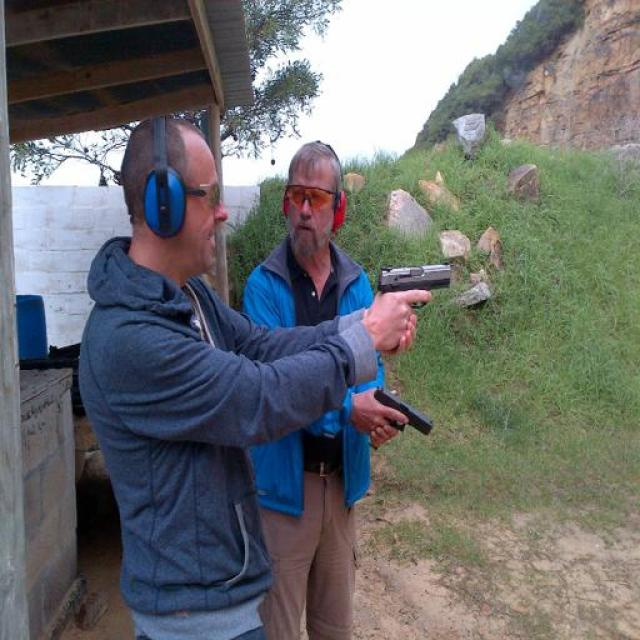pistol: (370, 257, 452, 316), (351, 388, 433, 434)
